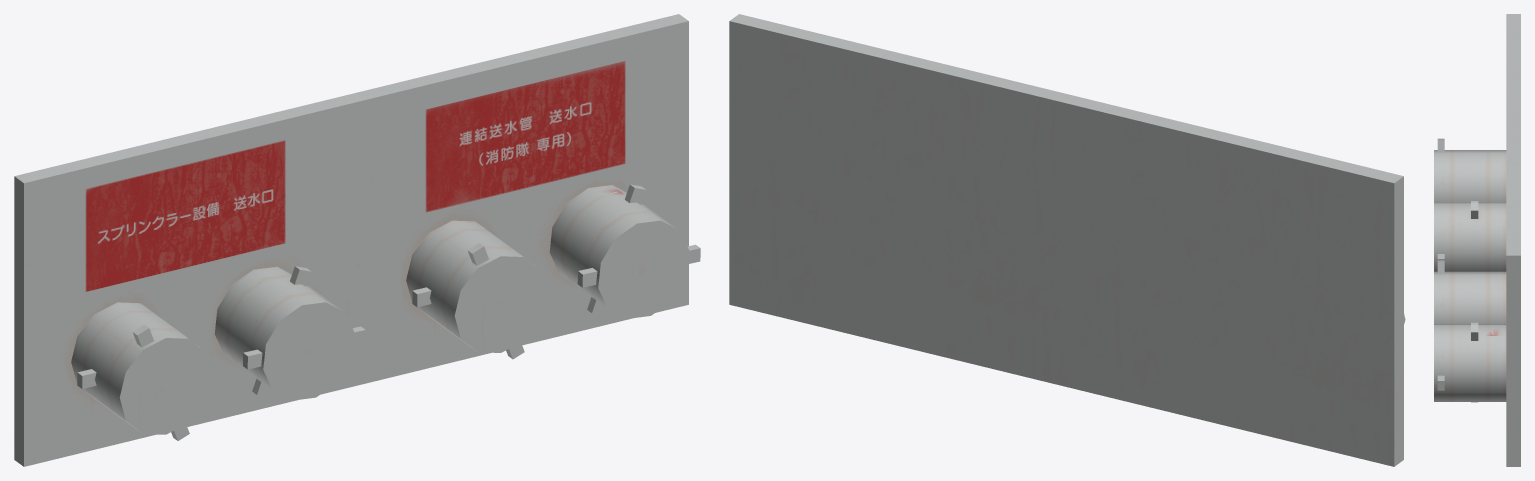
File: wateroutletA.fbx
3 views of the same model, side by side, from view 1: azimuth 30°, elevation 25°; view 2: azimuth 150°, elevation 25°; view 3: azimuth 270°, elevation 25° (orthographic). The views are drawn at different scales.
Parts seen in each view (by area): view 1: wateroutletA; view 2: wateroutletA; view 3: wateroutletA.
Part boxes in pixels (bbox=[...]): wateroutletA: bbox=[14, 14, 700, 466]; wateroutletA: bbox=[729, 14, 1405, 466]; wateroutletA: bbox=[1434, 14, 1520, 466].
Bounding box in the file's own units: 79 × 32.21 × 12.
1 material, 1 textured.
